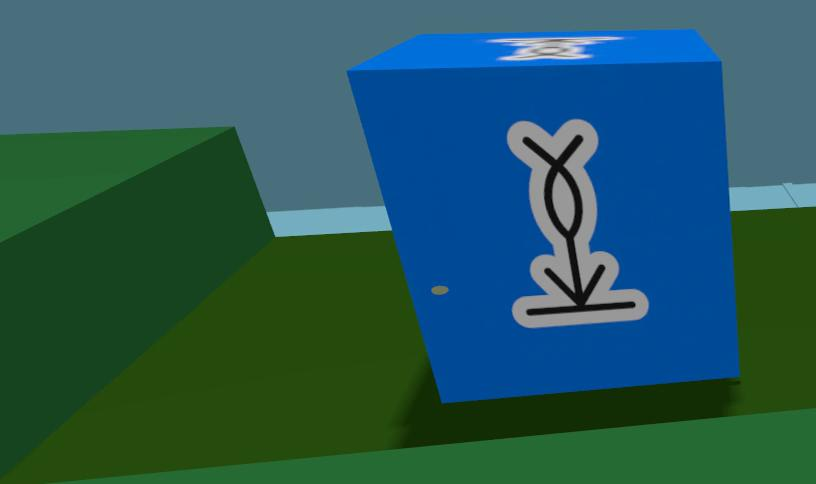KFS_REAL: (347, 29, 739, 401), (507, 119, 647, 328), (489, 38, 621, 60)
